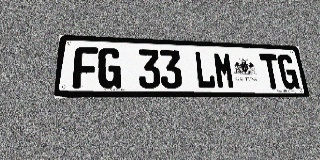3: (138, 49, 161, 89), (160, 50, 182, 89)
F: (72, 47, 98, 88)
G: (98, 47, 121, 89), (276, 54, 300, 89)
L: (194, 51, 216, 89)
M: (213, 52, 236, 89)
T: (259, 54, 282, 89)
